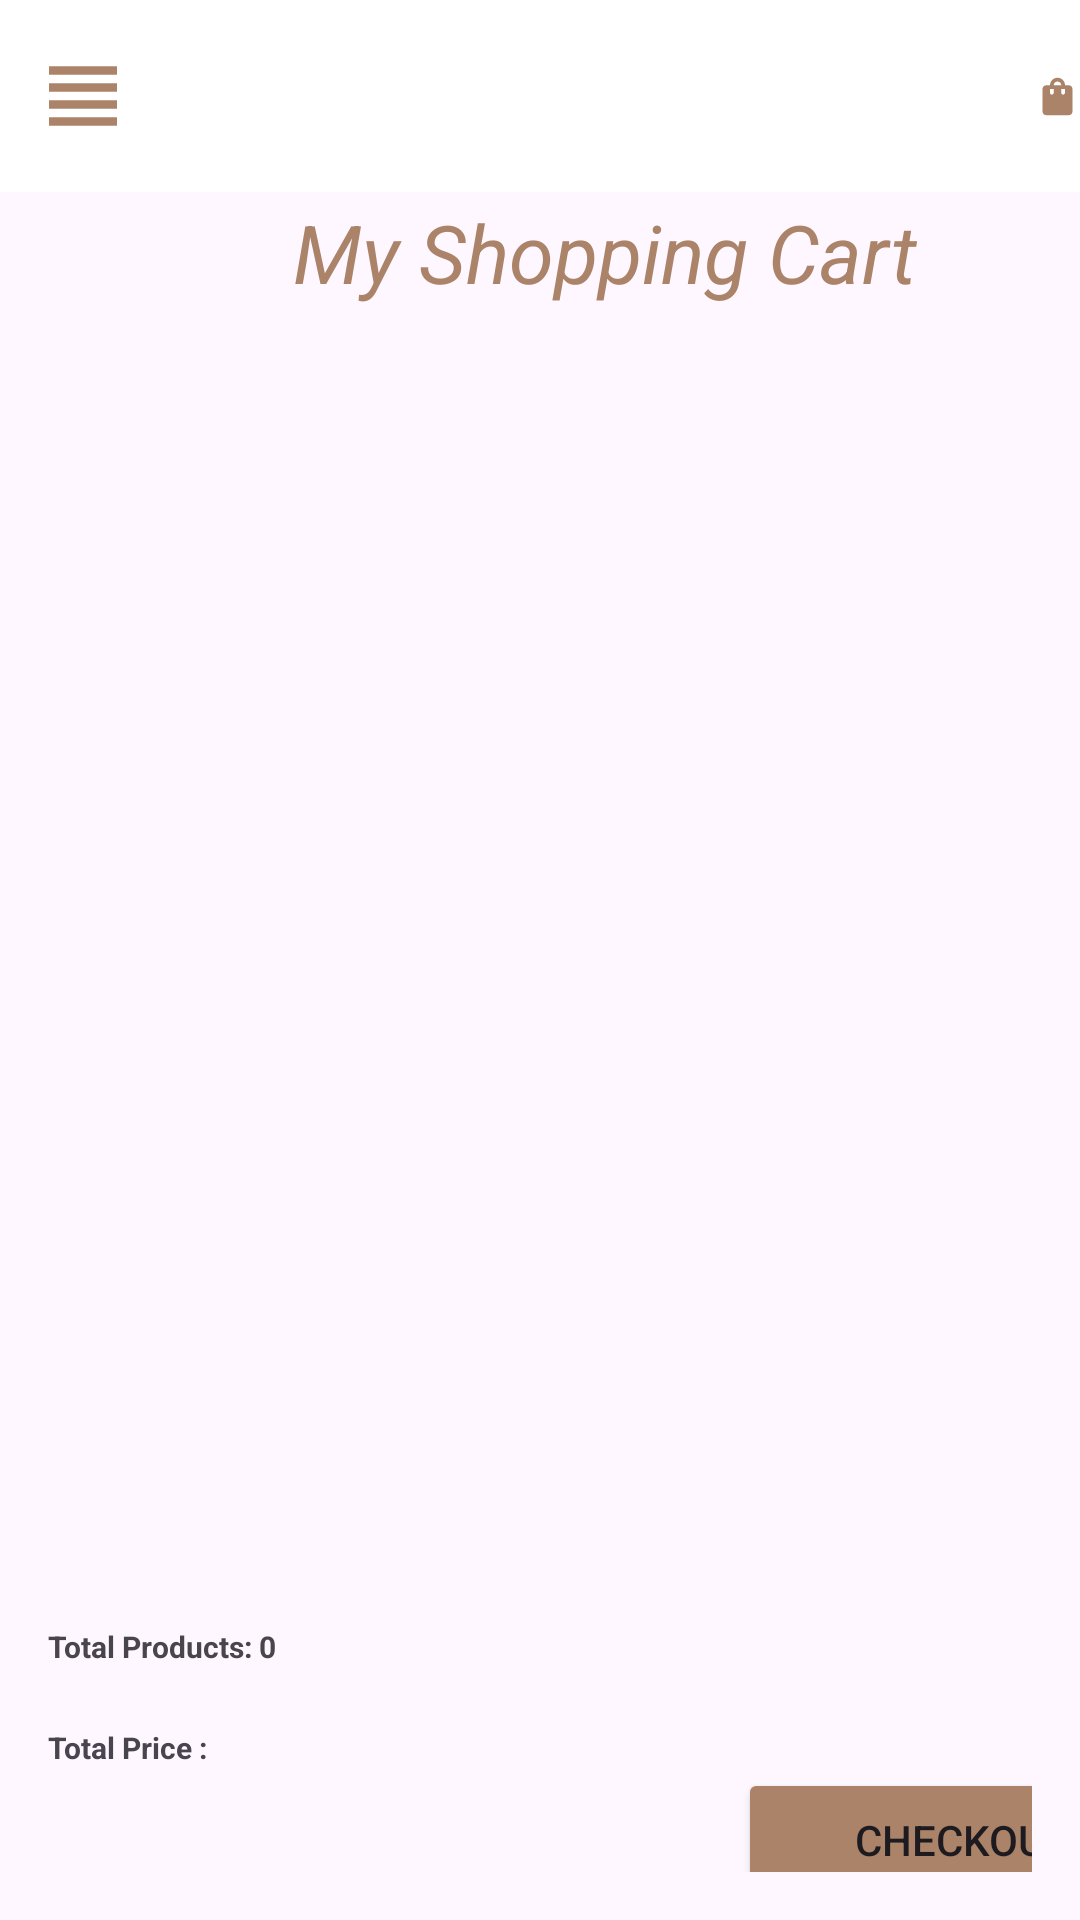

Icons on this 1080px×1920px Android screen, each with its box as (x1, y1, x2, y2):
sidebar: (49, 66, 117, 126)
